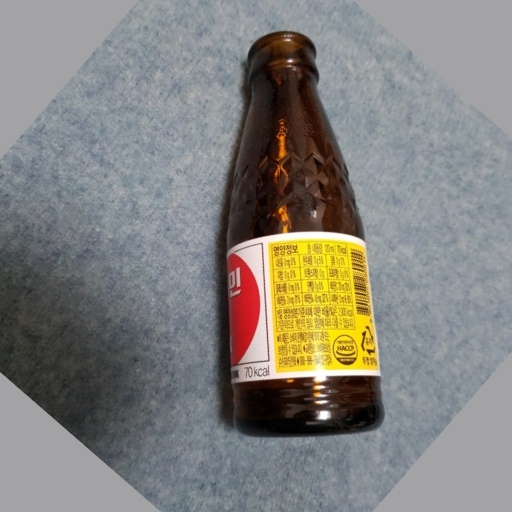Glass_3: (212, 27, 389, 438)
